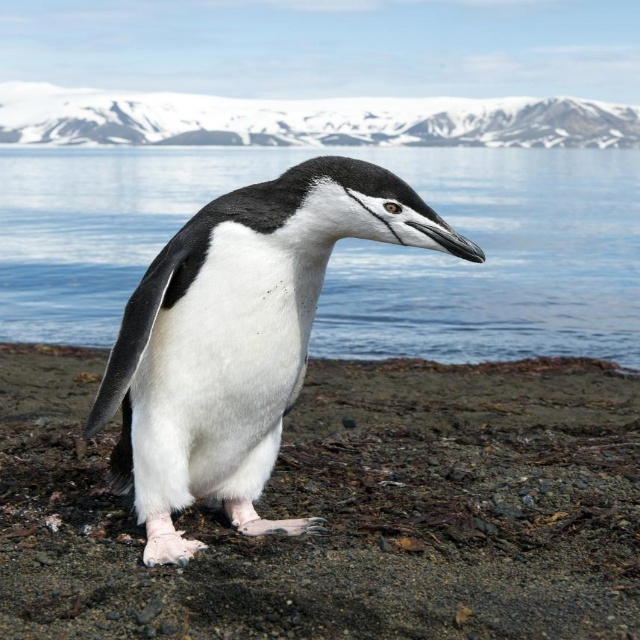Penguin: (82, 152, 490, 565)
